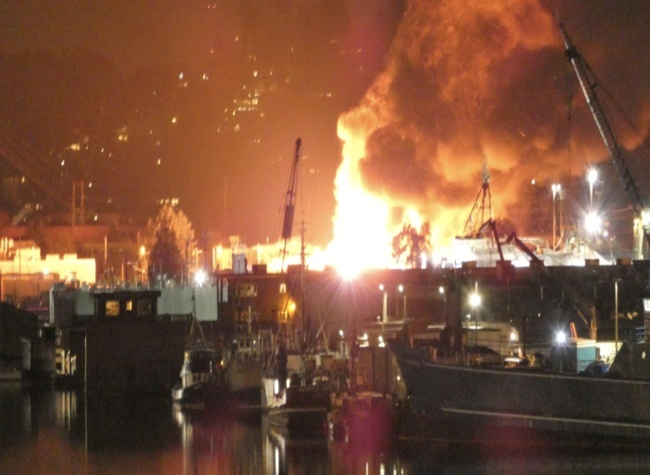Smoke: (368, 96, 522, 203), (501, 60, 631, 159)
